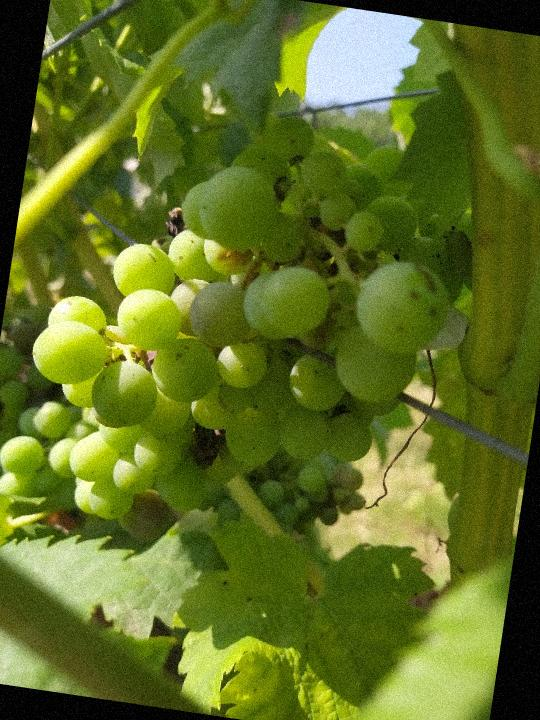grape: (0, 82, 489, 588)
